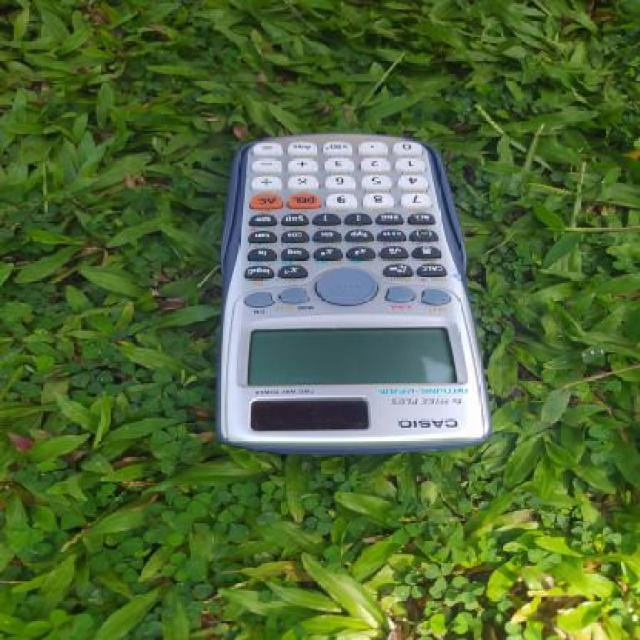Calculator: (207, 116, 496, 462)
